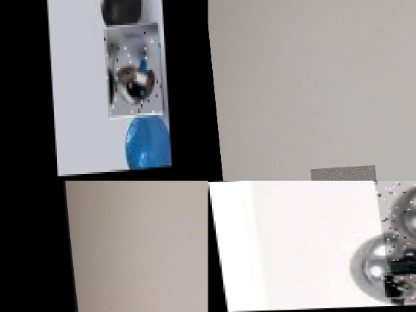ironball: (102, 24, 162, 116), (346, 234, 407, 294), (373, 181, 415, 264), (383, 270, 415, 303), (304, 166, 371, 181)
